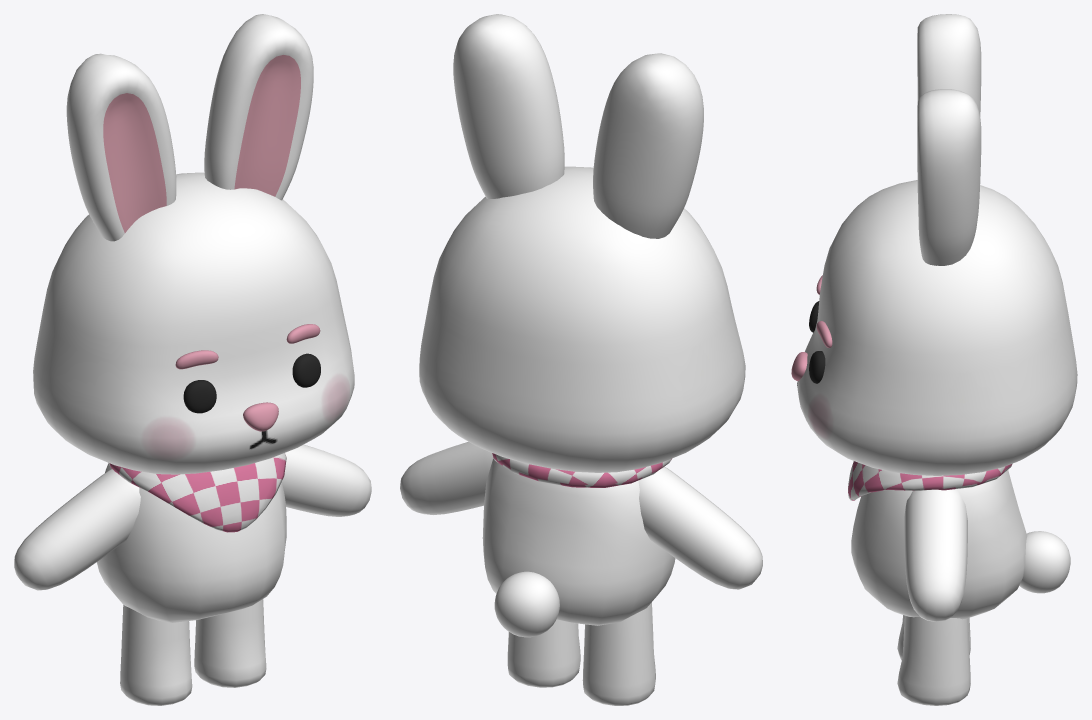
Rendered from cute_bunny.glb.
3 views of the same model, side by side, from view 1: azimuth 30°, elevation 25°; view 2: azimuth 150°, elevation 25°; view 3: azimuth 270°, elevation 25° (orthographic). The views are drawn at different scales.
Visible parts, largest first — view 1: bunny2_head, bunny2_ears, bunny2_body, bunny2_arms, bunny2_legs, bunny2_scraf, bunny2_eyes, bunny2_eyebrow, bunny2_nose; view 2: bunny2_head, bunny2_ears, bunny2_body, bunny2_arms, bunny2_legs, bunny2_tail, bunny2_scraf; view 3: bunny2_head, bunny2_ears, bunny2_body, bunny2_arms, bunny2_legs, bunny2_scraf, bunny2_tail, bunny2_eyes.
Boxes of the visible parts, <box> form: bunny2_head: <box>33,172,354,474</box>; bunny2_ears: <box>66,14,313,241</box>; bunny2_body: <box>97,464,286,622</box>; bunny2_arms: <box>14,444,371,590</box>; bunny2_legs: <box>120,599,266,705</box>; bunny2_scraf: <box>108,453,286,532</box>; bunny2_eyes: <box>183,353,320,413</box>; bunny2_eyebrow: <box>175,324,320,369</box>; bunny2_nose: <box>243,402,278,431</box>; bunny2_head: <box>419,166,745,472</box>; bunny2_ears: <box>453,14,703,238</box>; bunny2_body: <box>482,458,675,625</box>; bunny2_arms: <box>400,442,762,589</box>; bunny2_legs: <box>507,602,655,705</box>; bunny2_tail: <box>494,571,559,637</box>; bunny2_scraf: <box>492,453,671,487</box>; bunny2_head: <box>797,180,1077,475</box>; bunny2_ears: <box>917,14,981,265</box>; bunny2_body: <box>851,470,1027,619</box>; bunny2_arms: <box>904,489,967,621</box>; bunny2_legs: <box>897,615,970,705</box>; bunny2_scraf: <box>848,461,1012,500</box>; bunny2_tail: <box>1019,531,1070,593</box>; bunny2_eyes: <box>809,301,825,383</box>.
Bounding box in the file's own units: 1.19 × 2.08 × 0.8661.
6 materials, 2 textured.
